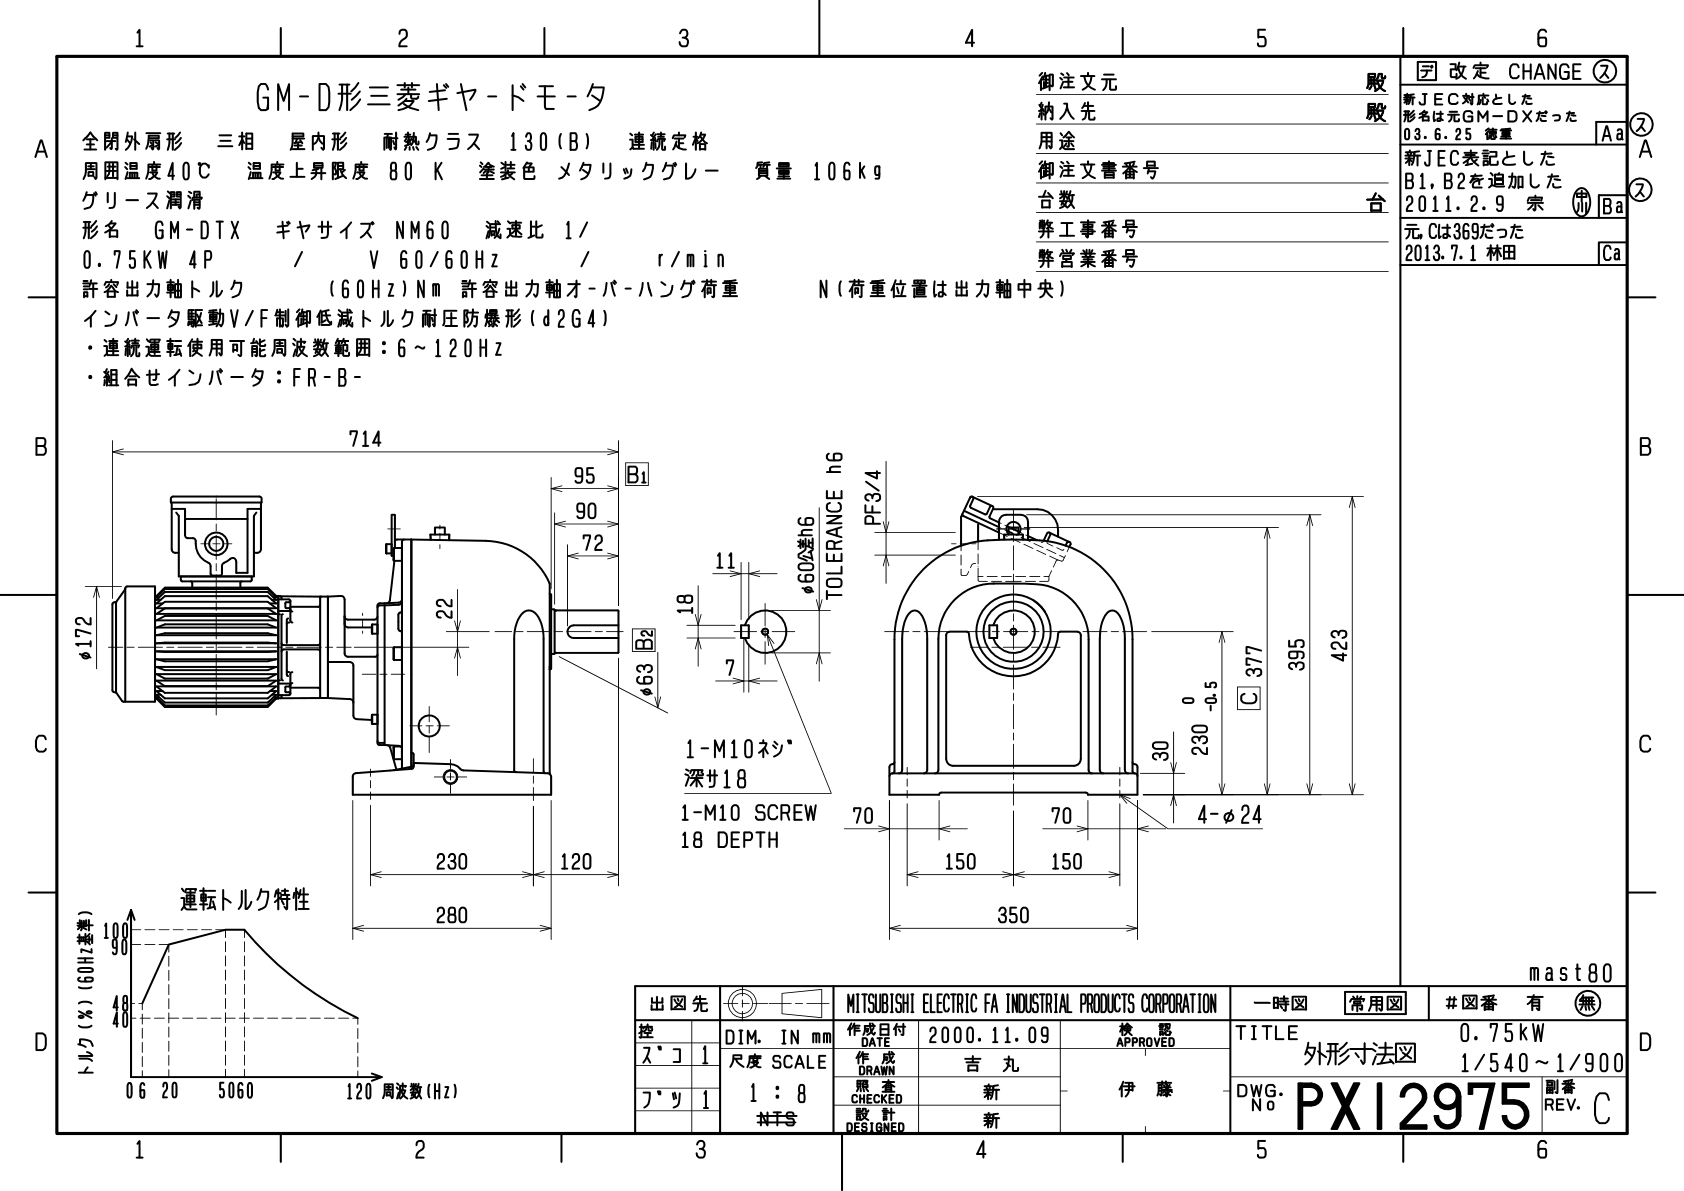GM_D_VF制御屋内_三相_脚: (54, 406, 1393, 969)
